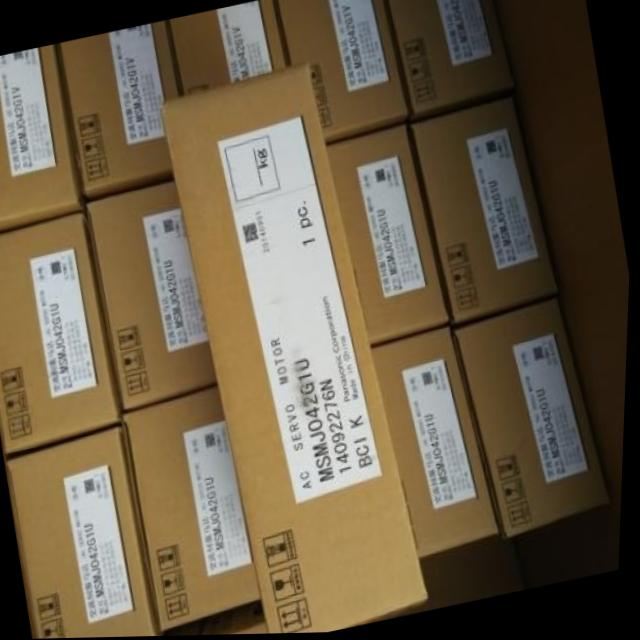box: (159, 64, 434, 635), (456, 301, 614, 543), (125, 387, 265, 632), (412, 101, 560, 328), (8, 427, 164, 639), (0, 213, 126, 456), (86, 182, 219, 410), (375, 329, 504, 561), (327, 126, 452, 347), (60, 21, 179, 198), (277, 0, 411, 144), (0, 44, 84, 232), (387, 0, 515, 122), (169, 0, 287, 94)
